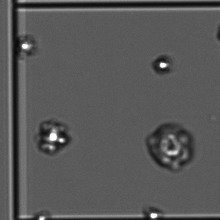Dead Cell: (148, 123, 194, 170)
Living Cell: (36, 121, 71, 152), (153, 54, 172, 74), (18, 36, 35, 55)
